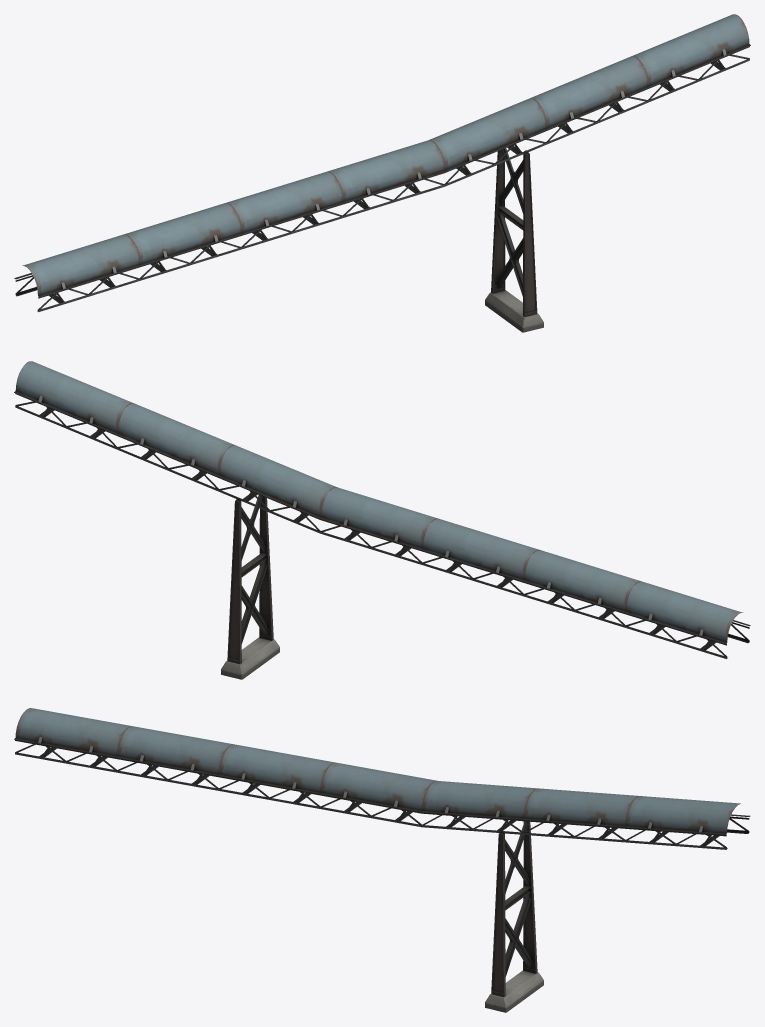
The picture shows the model from 3 angles, top to bottom: view 1: azimuth 30°, elevation 25°; view 2: azimuth 150°, elevation 25°; view 3: azimuth 330°, elevation 25°; orthographic projection.
Visible parts, largest first — view 1: body0_model0_lod0_mesh1, body0_model0_lod0_mesh0; view 2: body0_model0_lod0_mesh1, body0_model0_lod0_mesh0; view 3: body0_model0_lod0_mesh1, body0_model0_lod0_mesh0.
Boxes of the visible parts, left/top/right/bottom form: body0_model0_lod0_mesh1: left=14, top=14, right=750, bottom=312; body0_model0_lod0_mesh0: left=485, top=148, right=543, bottom=332; body0_model0_lod0_mesh1: left=14, top=361, right=750, bottom=658; body0_model0_lod0_mesh0: left=221, top=495, right=279, bottom=679; body0_model0_lod0_mesh1: left=14, top=708, right=750, bottom=849; body0_model0_lod0_mesh0: left=485, top=821, right=543, bottom=1012.
Bounding box in the file's own units: 1792 × 592 × 167.
2 materials, 2 textured.
